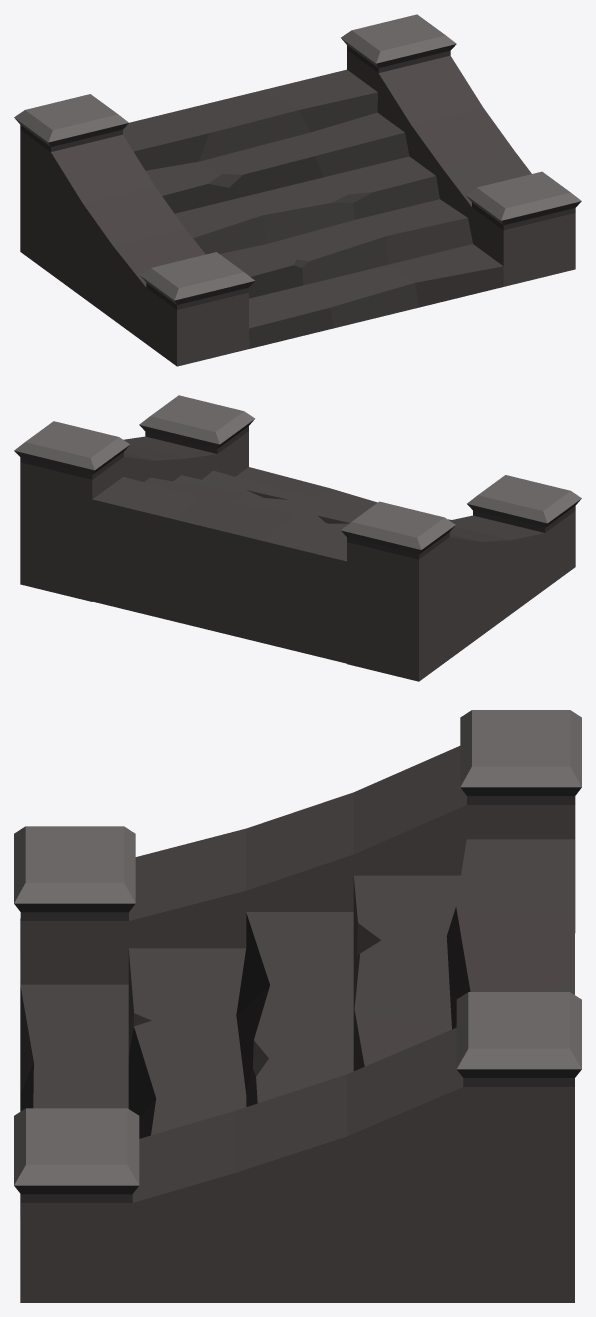
File: Module_Stair_Straight_1M_01.glb
3 views of the same model, one above another, from view 1: azimuth 30°, elevation 25°; view 2: azimuth 150°, elevation 25°; view 3: azimuth 270°, elevation 25° (orthographic). The views are drawn at different scales.
Visible parts, largest first — view 1: Module_Stair_Straight_1M_01; view 2: Module_Stair_Straight_1M_01; view 3: Module_Stair_Straight_1M_01.
Boxes of the visible parts, box(x1,y1,x2,y2) form: Module_Stair_Straight_1M_01: box(14, 14, 581, 366); Module_Stair_Straight_1M_01: box(14, 395, 581, 681); Module_Stair_Straight_1M_01: box(14, 710, 581, 1302).
Size of what is drawn, in the model's own units: 1.5 by 0.5 by 1.02.
Materials: 1 (1 with a texture image).
